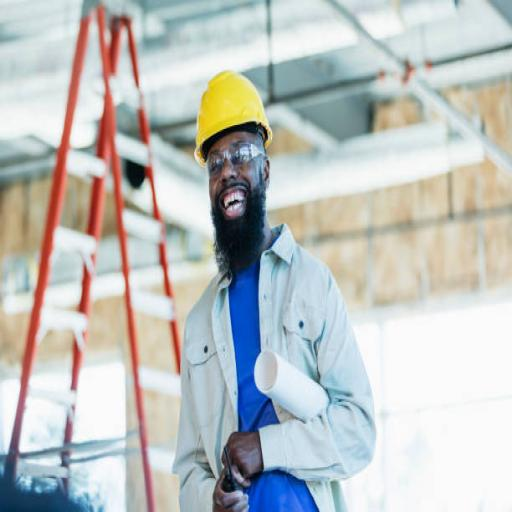No Gloves: (205, 404, 278, 512)
helmet: (190, 63, 282, 179)
safety glasses: (198, 126, 272, 186)
